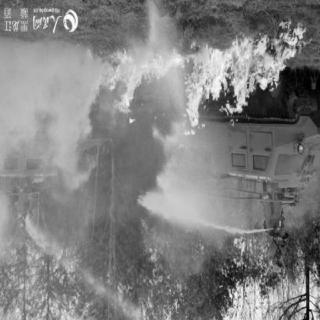Fire: (84, 26, 314, 146)
